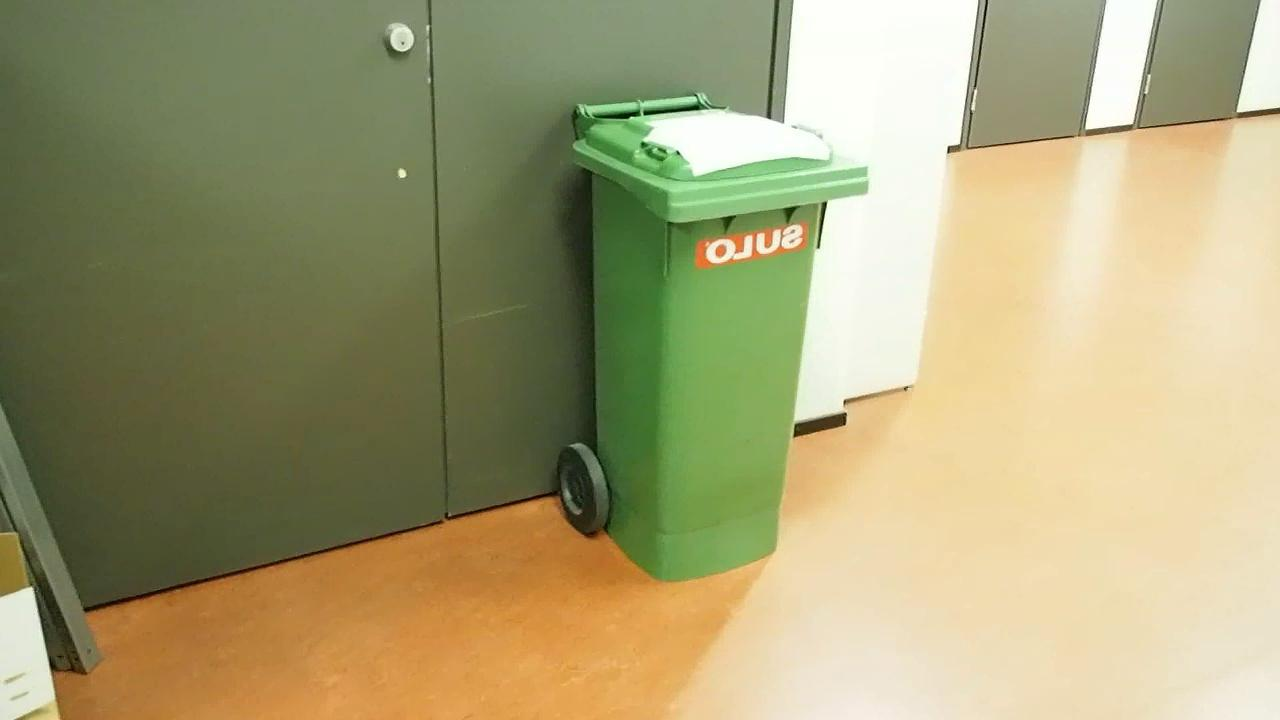trashbin: (544, 85, 880, 591)
